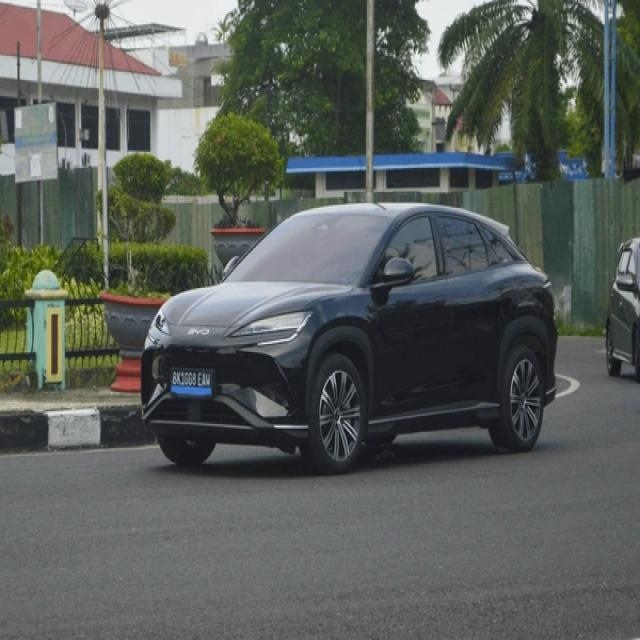byd: (186, 325, 212, 342)
